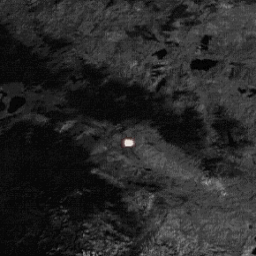Target: (123, 138, 135, 148)
